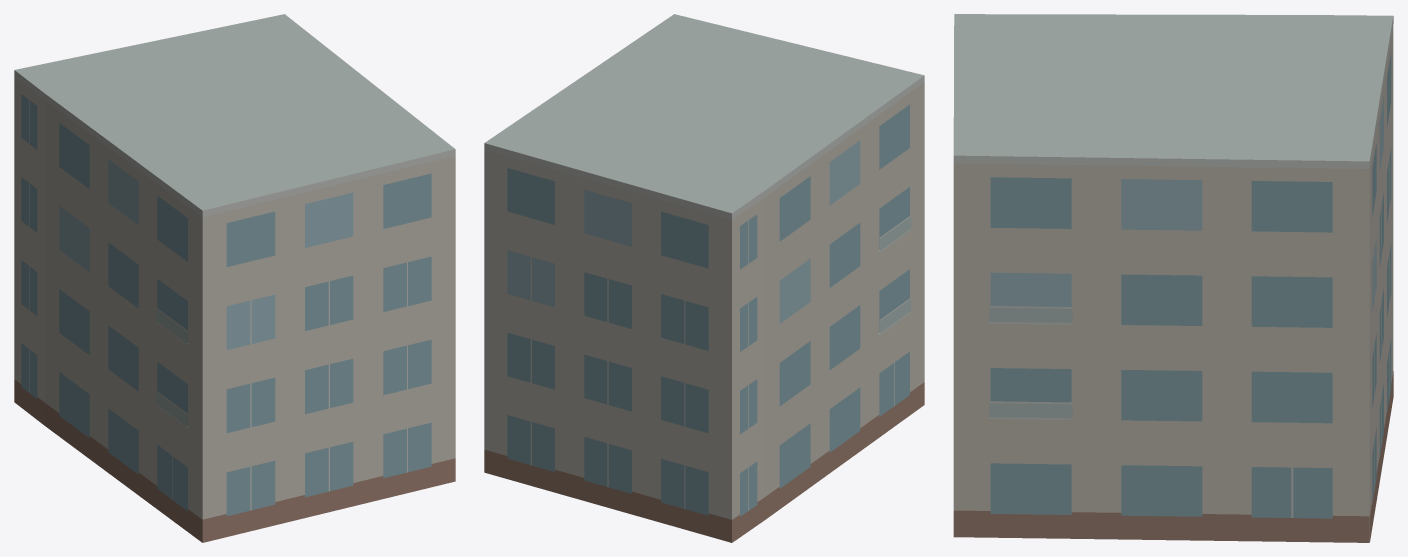
The model's file is survey-upis-32881939.glb.
3 renders of one model, left to right at view 1: azimuth 30°, elevation 25°; view 2: azimuth 150°, elevation 25°; view 3: azimuth 270°, elevation 25°, orthographic. The views are drawn at different scales.
Visible parts, largest first — view 1: survey-upis-32881939.tmp; view 2: survey-upis-32881939.tmp; view 3: survey-upis-32881939.tmp.
Boxes of the visible parts, box(x1,y1,x2,y2) form: survey-upis-32881939.tmp: box(14, 14, 455, 542); survey-upis-32881939.tmp: box(484, 14, 924, 542); survey-upis-32881939.tmp: box(953, 14, 1393, 542).
Size of the model in its own units: 10.15 by 12.2 by 12.76.
